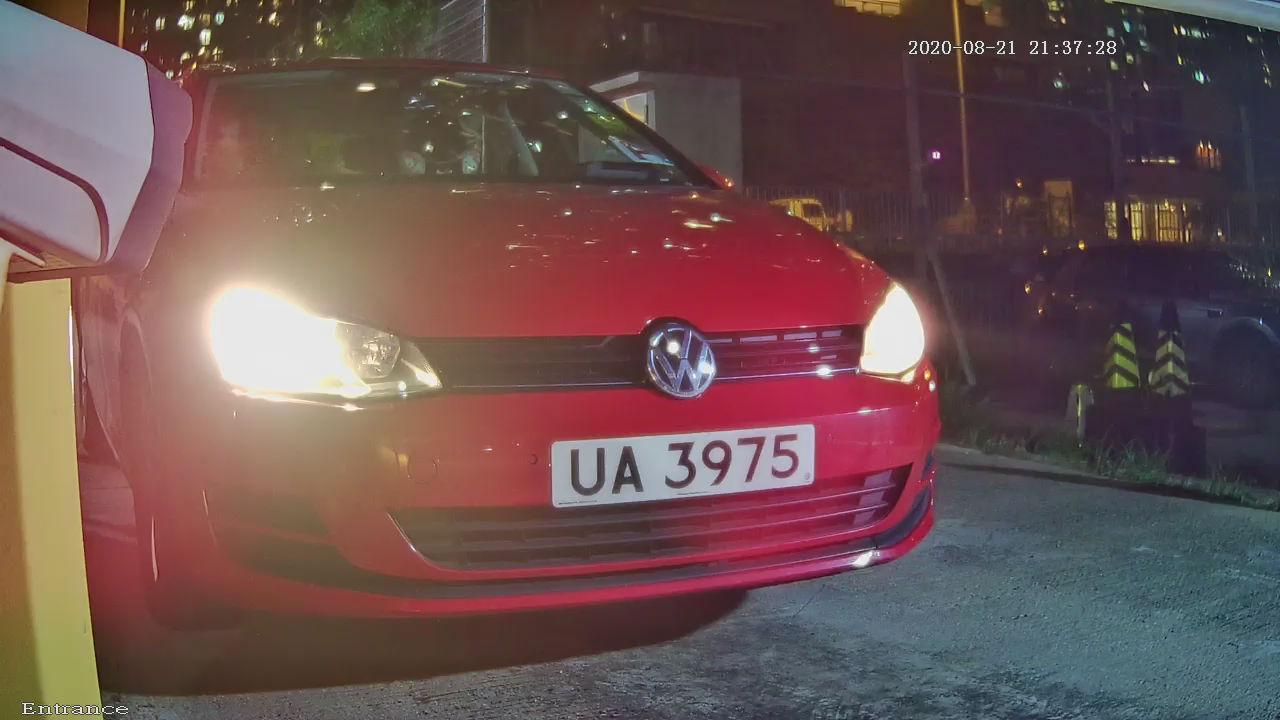Car: (58, 20, 1058, 679)
License Plate: (521, 418, 846, 515)
